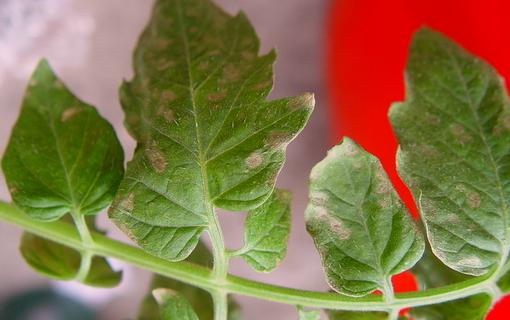Tomato mold leaf: (98, 0, 313, 256), (380, 20, 510, 274), (0, 56, 130, 219), (304, 130, 425, 295)
